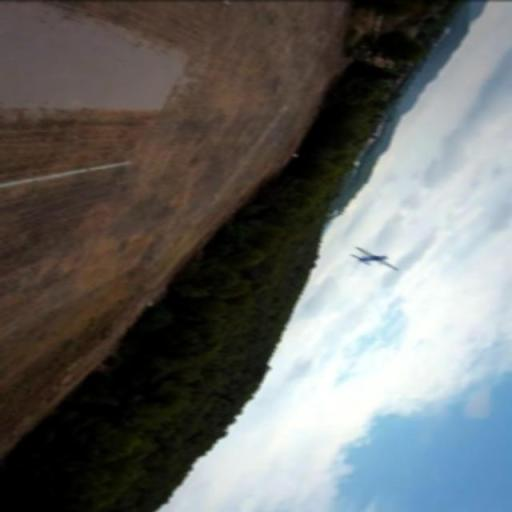uav: (348, 246, 400, 270)
